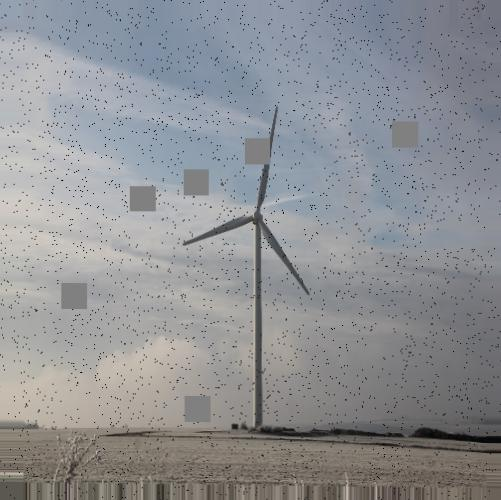wind turbine: (181, 105, 311, 437)
